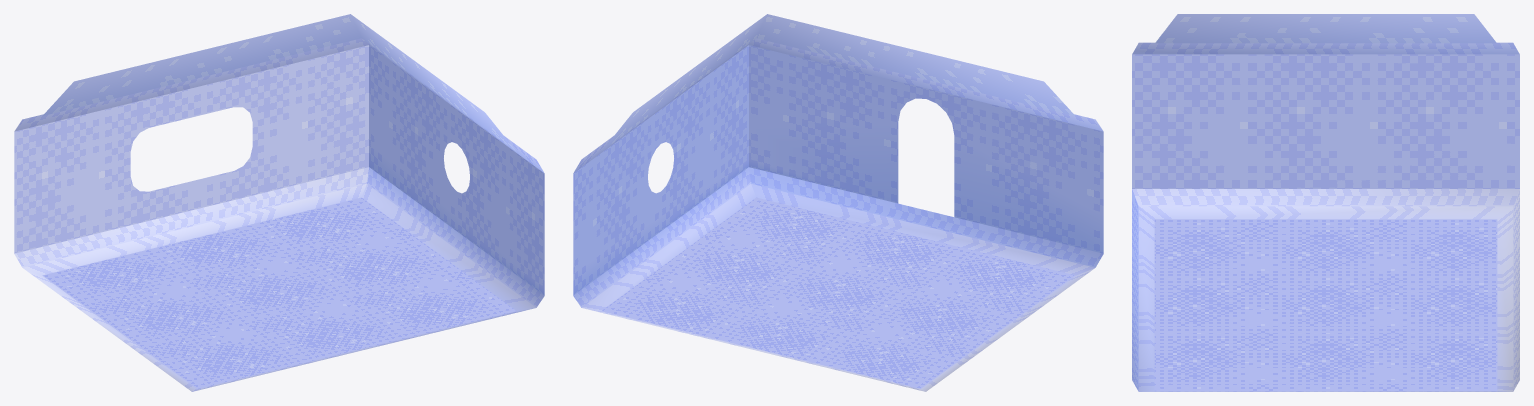
Rendered from shell.glb.
3 views of the same model, side by side, from view 1: azimuth 30°, elevation 25°; view 2: azimuth 150°, elevation 25°; view 3: azimuth 270°, elevation 25° (orthographic). The views are drawn at different scales.
Visible parts, largest first — view 1: kit_shell_walls, kit_shell_floor, kit_shell_ceiling; view 2: kit_shell_walls, kit_shell_floor, kit_shell_ceiling; view 3: kit_shell_walls, kit_shell_floor, kit_shell_ceiling.
Part boxes in pixels (<box>): kit_shell_walls: <box>14,38,544,391</box>; kit_shell_floor: <box>42,197,516,388</box>; kit_shell_ceiling: <box>43,14,516,151</box>; kit_shell_walls: <box>573,38,1103,391</box>; kit_shell_floor: <box>601,197,1075,388</box>; kit_shell_ceiling: <box>601,14,1074,151</box>; kit_shell_walls: <box>1132,42,1519,391</box>; kit_shell_floor: <box>1154,219,1497,391</box>; kit_shell_ceiling: <box>1155,14,1496,43</box>.
Bounding box in the file's own units: 7 × 4.4 × 6.
Materials: 3 (3 with a texture image).
